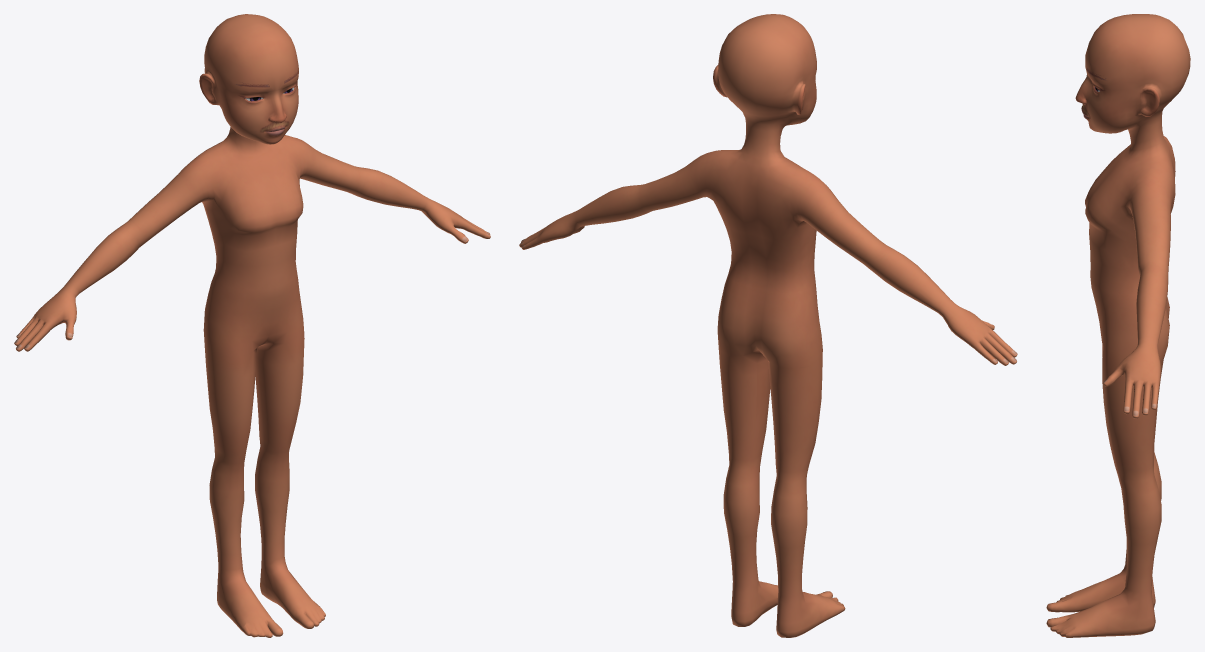
The model's file is frame_0043.glb.
The picture shows the model from 3 angles, left to right: view 1: azimuth 30°, elevation 25°; view 2: azimuth 150°, elevation 25°; view 3: azimuth 270°, elevation 25°; orthographic projection. The views are drawn at different scales.
Parts seen in each view (by area): view 1: frame_0043_head_geo; view 2: frame_0043_head_geo; view 3: frame_0043_head_geo.
Part boxes in pixels (x1=…): frame_0043_head_geo: x1=14, y1=14, x2=490, y2=637; frame_0043_head_geo: x1=519, y1=14, x2=1017, y2=637; frame_0043_head_geo: x1=1046, y1=14, x2=1190, y2=637.
Bounding box in the file's own units: 1.28 × 1.5 × 0.3253.
Materials: 3 (3 with a texture image).
